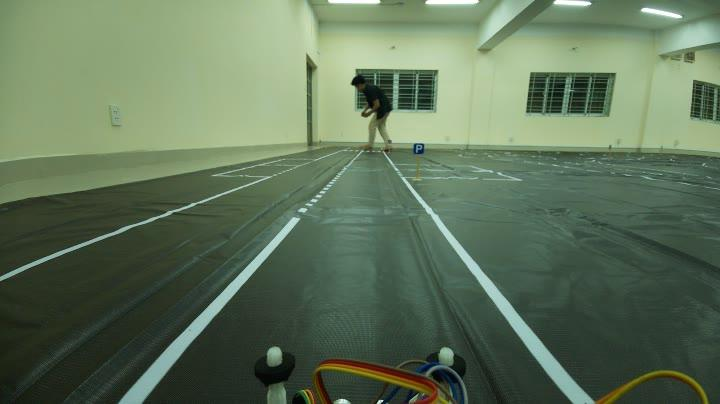parking: (411, 137, 428, 159)
